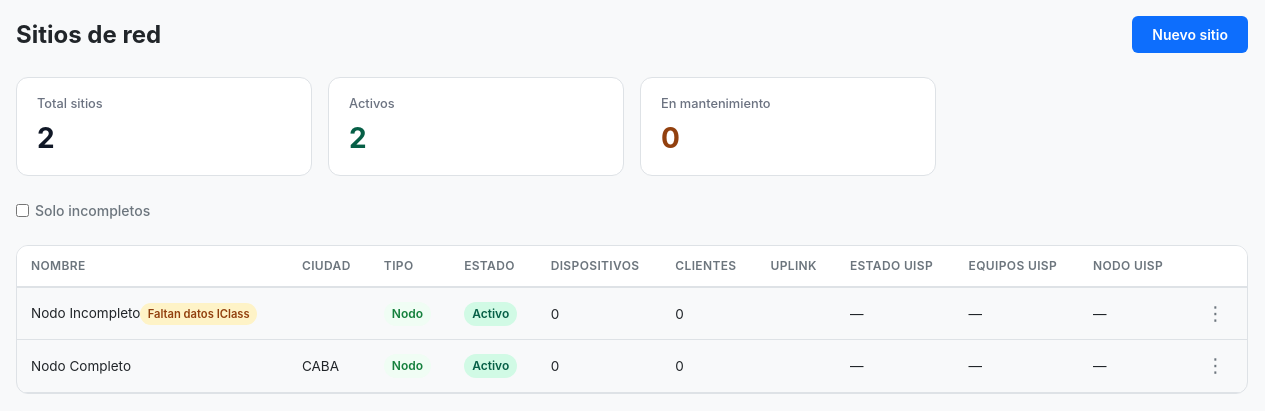
NetworkSitesPage — IClass Readiness badge › SCEN-FE-NSR-04: "Solo incompletos" filter hides complete rows
Expected: the text "Nodo Incompleto" is shown, [31, 305, 140, 321]
Expected: the text "Nodo Completo" is shown, [31, 358, 131, 374]
# Toggle filter
Click the checkbox labelled "Solo incompletos": [22, 211] box [16, 204, 29, 217]
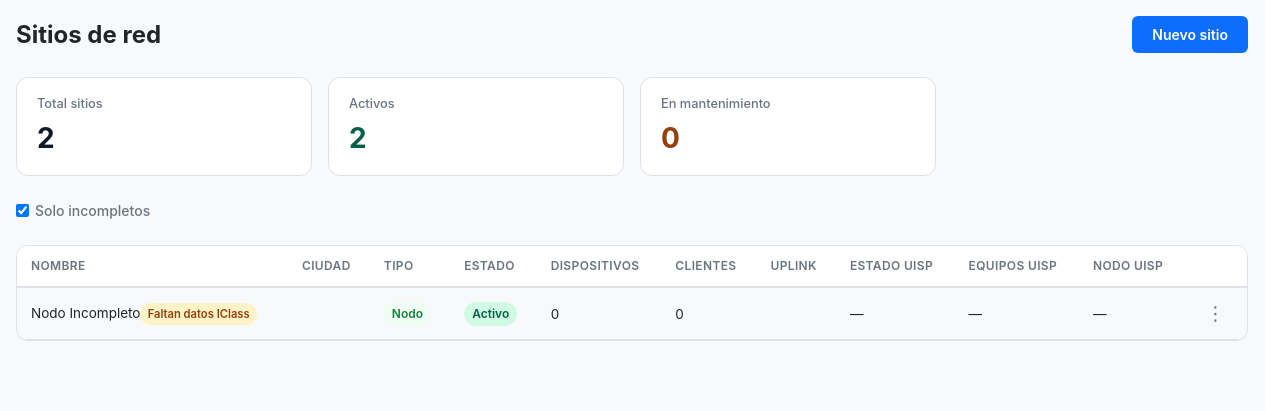
Expected: the text "Nodo Incompleto" is shown, [31, 305, 140, 321]
Now the text "Nodo Completo" is gone
